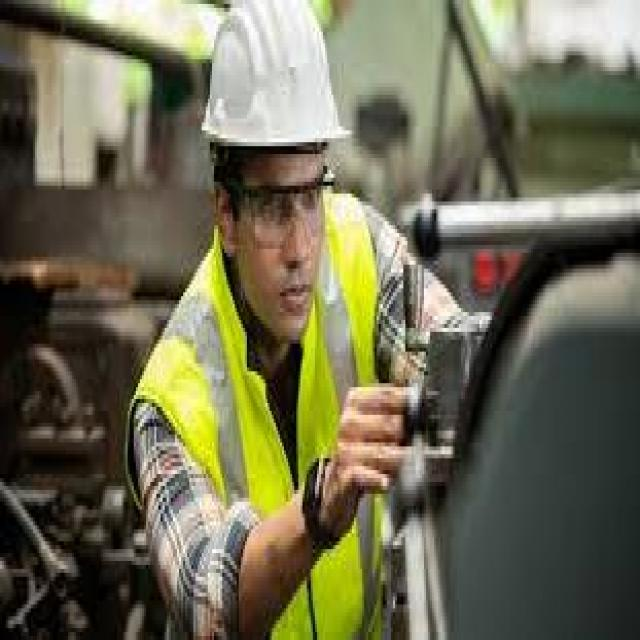Reflective-Jacket: (128, 221, 389, 636)
Safety-Helmet: (197, 4, 350, 166)
